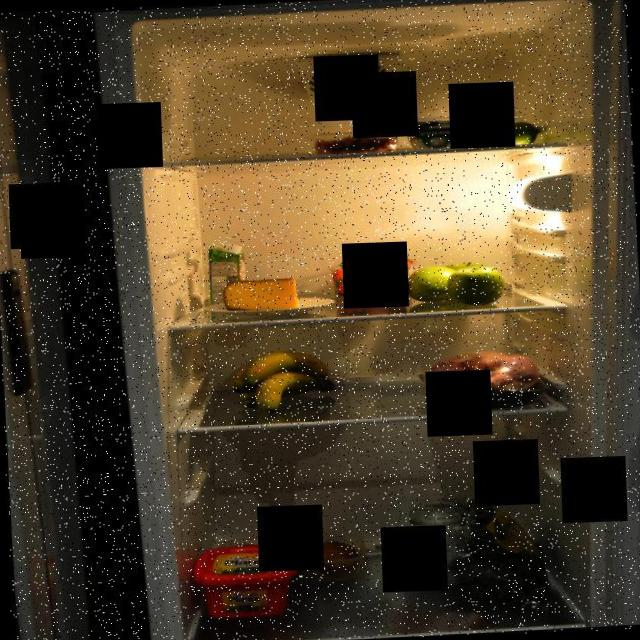Carne pollo: (416, 344, 550, 413)
Gambas/Langostinos: (318, 132, 400, 158)
Mantequilla: (191, 544, 292, 620)
Manzana: (405, 255, 509, 309)
Patata: (282, 531, 366, 579)
Queso: (220, 274, 302, 316), (396, 114, 469, 150)
heavy_cream: (206, 241, 247, 308)
spinach: (439, 500, 573, 633)
strawberries: (323, 250, 418, 307)
sugar: (399, 498, 468, 589)
